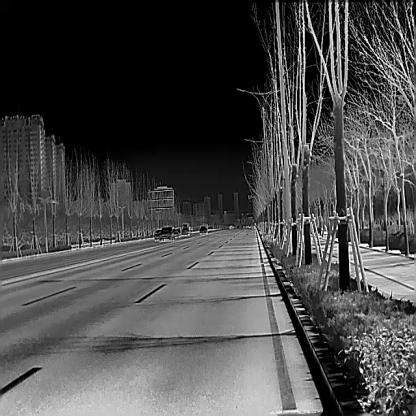car: (159, 226, 174, 240), (198, 225, 208, 235), (154, 229, 162, 240), (172, 227, 180, 237), (181, 226, 189, 235)
